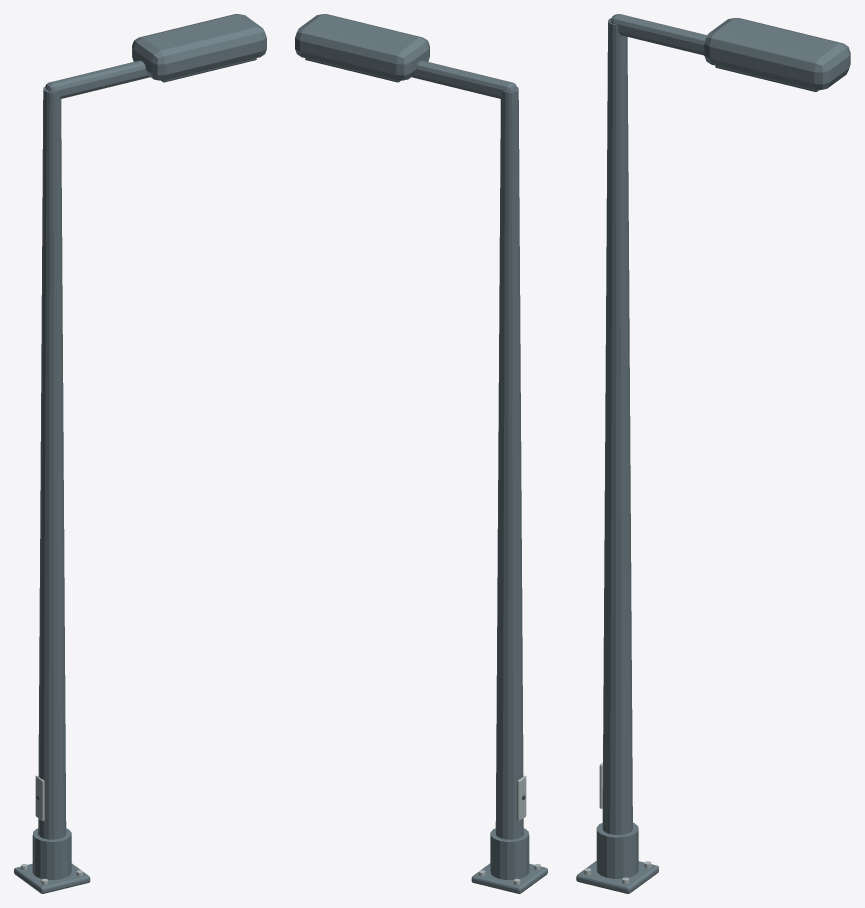
File: SIMUS_Streetlight_6m.glb
3 renders of one model, left to right at view 1: azimuth 30°, elevation 25°; view 2: azimuth 150°, elevation 25°; view 3: azimuth 330°, elevation 25°, orthographic. The views are drawn at different scales.
Parts seen in each view (by area): view 1: Tapered pole, Luminaire housing, Horizontal arm, Foot collar, Mounting plate; view 2: Tapered pole, Luminaire housing, Horizontal arm, Foot collar, Mounting plate; view 3: Tapered pole, Luminaire housing, Foot collar, Horizontal arm, Mounting plate.
Part boxes in pixels (box(x1,y1,x2,y2)): Tapered pole: box(38, 86, 66, 839); Luminaire housing: box(132, 14, 266, 80); Horizontal arm: box(45, 60, 150, 98); Foot collar: box(32, 828, 71, 879); Mounting plate: box(14, 863, 90, 893); Tapered pole: box(495, 86, 523, 839); Luminaire housing: box(295, 14, 429, 80); Horizontal arm: box(411, 60, 516, 98); Foot collar: box(490, 828, 529, 879); Mounting plate: box(471, 863, 547, 893); Tapered pole: box(602, 18, 632, 834); Luminaire housing: box(704, 18, 850, 90); Foot collar: box(596, 822, 638, 878); Horizontal arm: box(610, 14, 707, 55); Mounting plate: box(576, 861, 658, 893).
Bounding box in the file's own units: 1.76 × 5.94 × 0.38.
